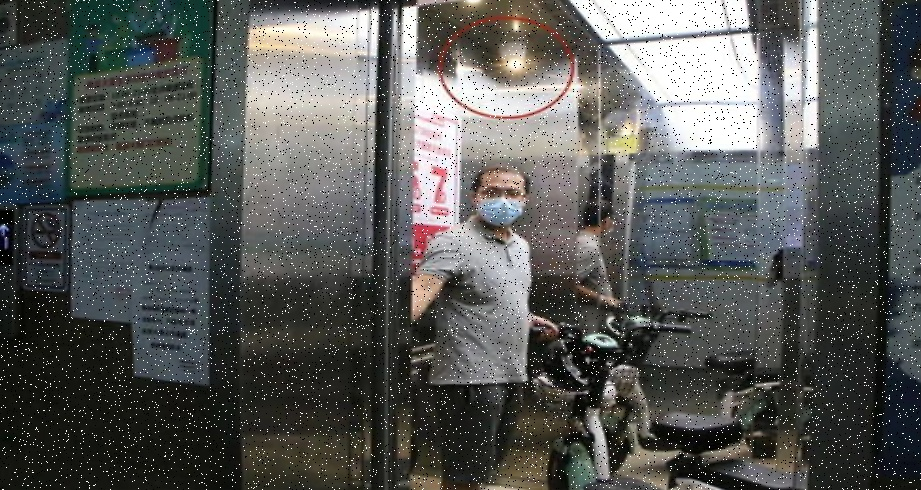ebike: (528, 314, 792, 488)
person: (414, 165, 538, 490)
